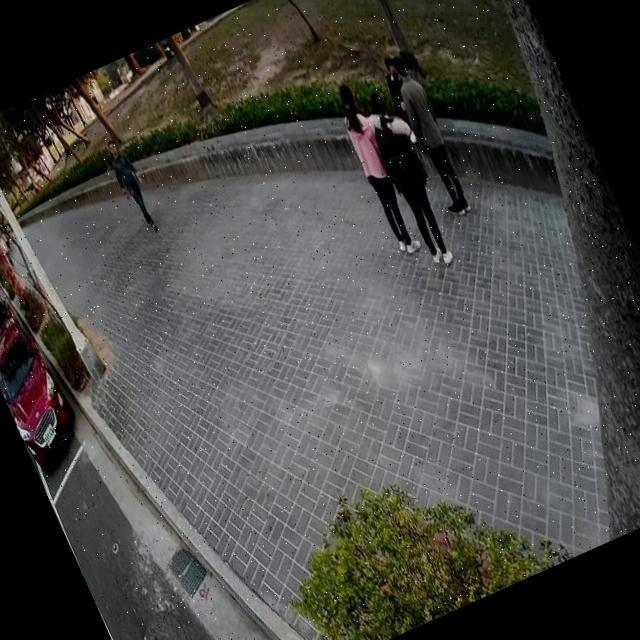person: (354, 80, 472, 274), (325, 73, 432, 260), (380, 45, 482, 223), (99, 132, 165, 238), (372, 51, 432, 148), (0, 229, 18, 270)
